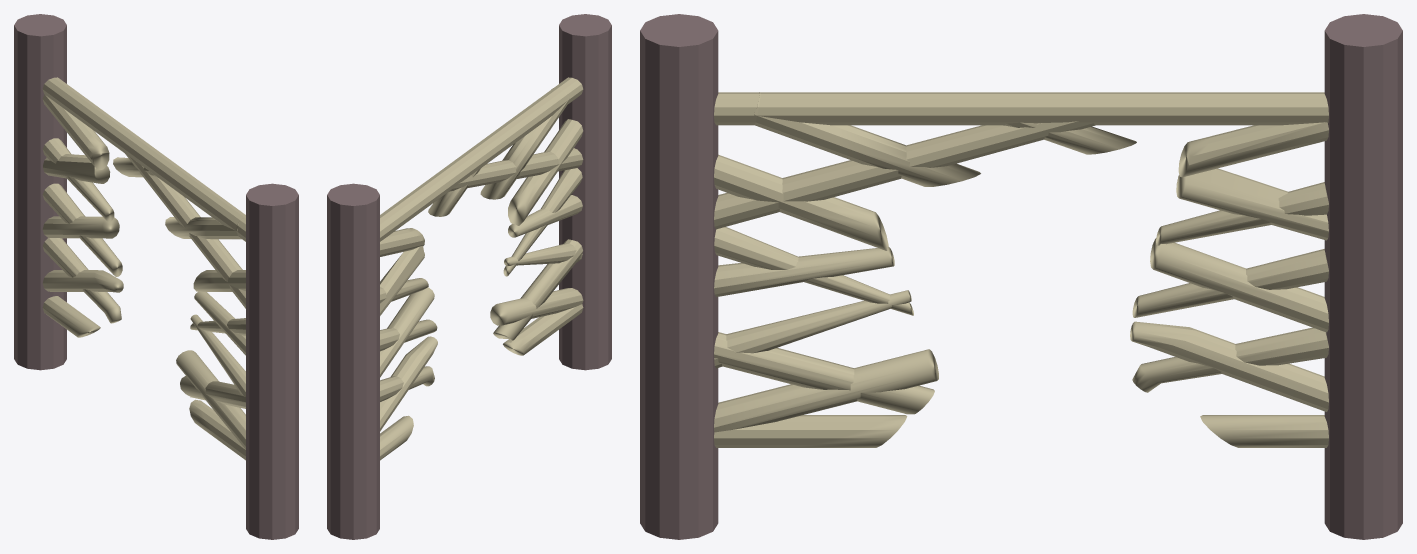
The model's file is fencehole.fbx.
The picture shows the model from 3 angles, left to right: view 1: azimuth 30°, elevation 25°; view 2: azimuth 150°, elevation 25°; view 3: azimuth 270°, elevation 25°; orthographic projection. The views are drawn at different scales.
Visible parts, largest first — view 1: Cylinder.003; view 2: Cylinder.003; view 3: Cylinder.003.
Part boxes in pixels (x1,y1,x2,y2): Cylinder.003: (14, 14, 298, 539); Cylinder.003: (327, 14, 611, 539); Cylinder.003: (640, 14, 1402, 539).
Size of the model in its own units: 42.5 by 295 by 414.
